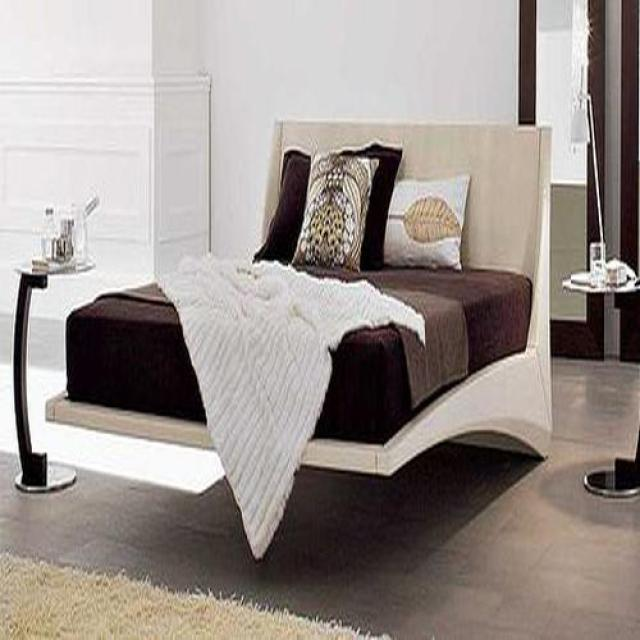bed: (46, 122, 553, 562)
